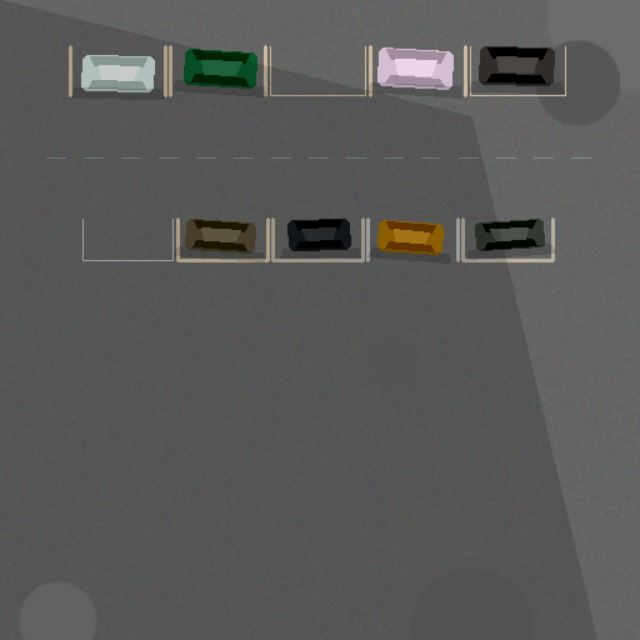space-empty: (270, 46, 365, 95), (83, 219, 173, 260)
space-occupied: (70, 46, 165, 95), (170, 46, 265, 95), (370, 46, 465, 95), (470, 46, 565, 95), (177, 219, 267, 260), (273, 219, 363, 260), (367, 219, 457, 260), (463, 219, 553, 260)
